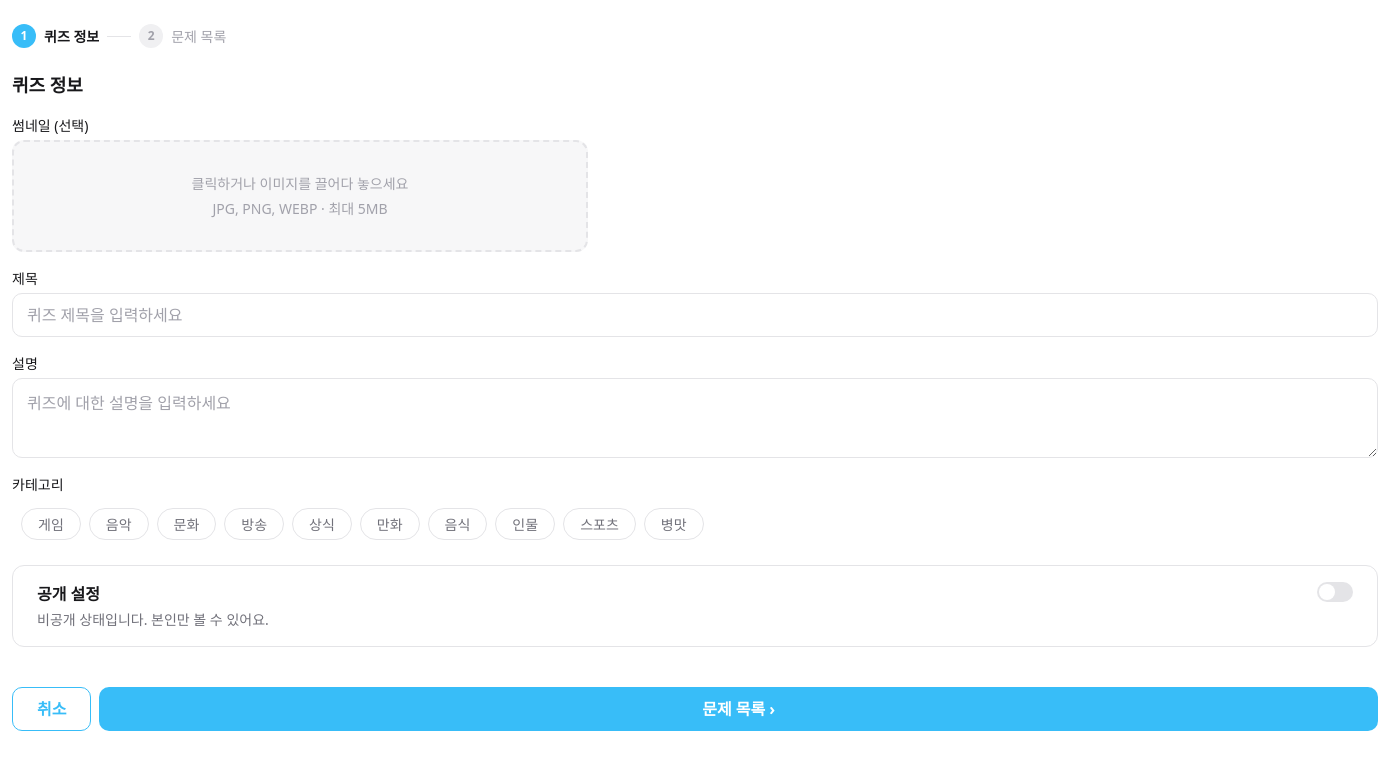
Test: QuizCreatePage › STEP 2 → STEP 1 복귀 › "‹ 퀴즈 정보" → step="info" 복귀, 폼 데이터 보존
The image size is (1390, 768).
Type "테스트 제목" into the field with placeholder "퀴즈 제목을 입력하세요". click: (695, 315)
box: [12,293,1378,337]
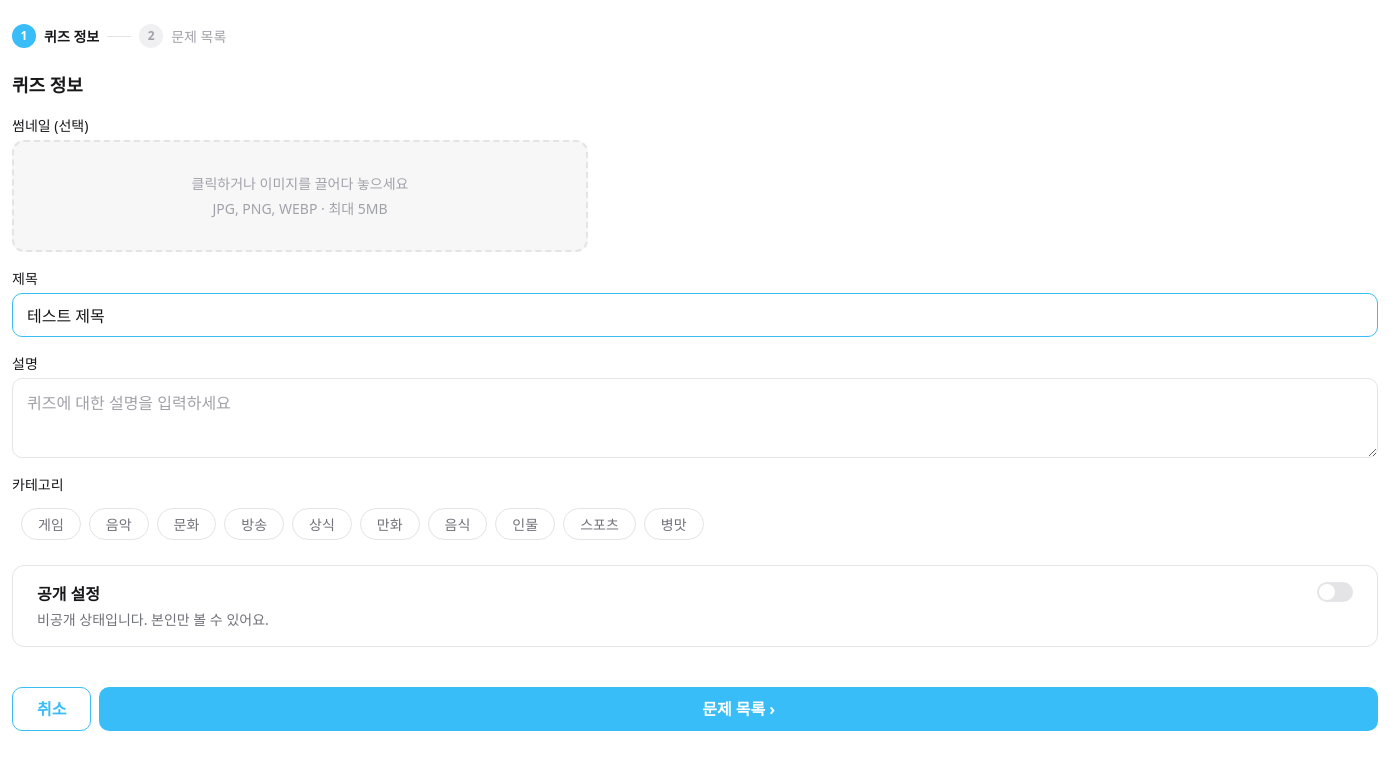
Type "설명" into the text box with placeholder "퀴즈에 대한 설명을 입력하세요". click: (695, 418)
box: [12,378,1378,458]
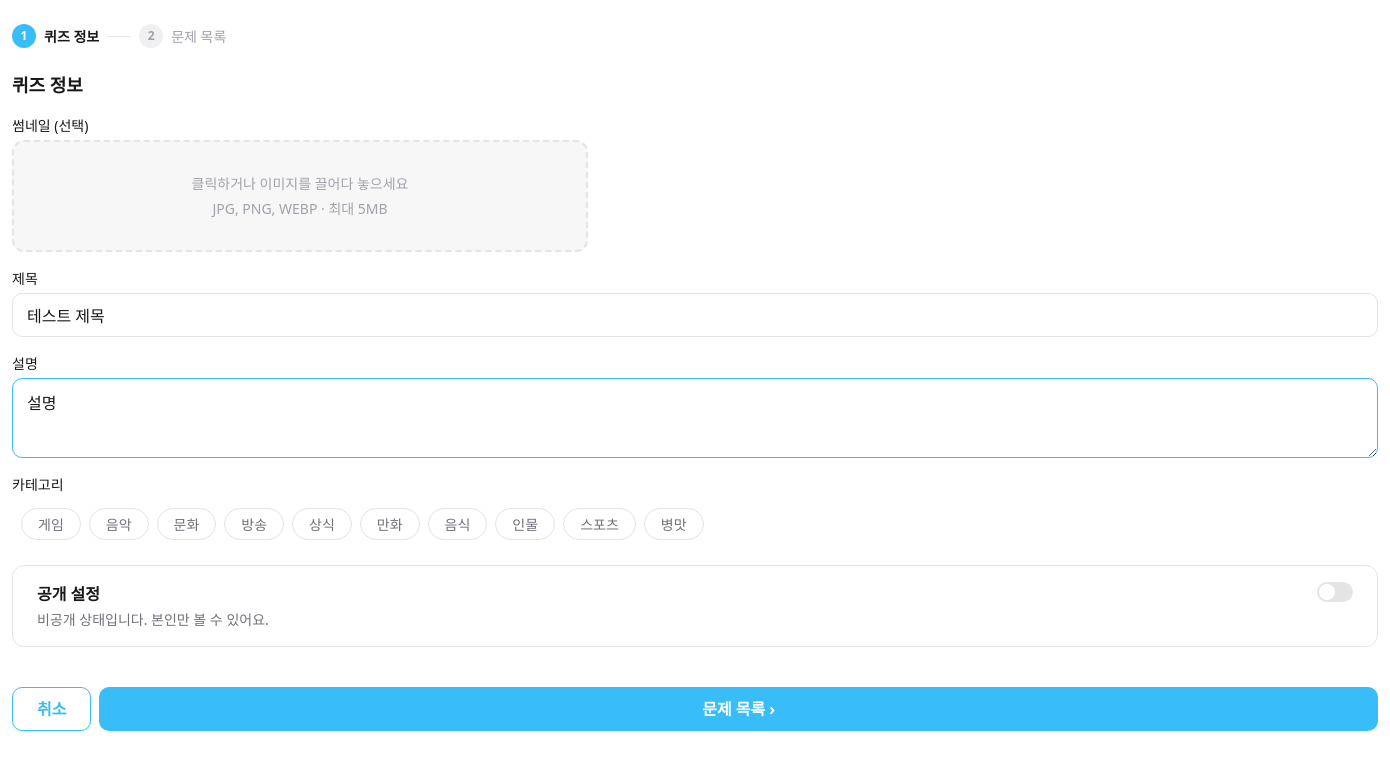
Click the button "게임". click: (51, 524)
box: [21,508,81,540]
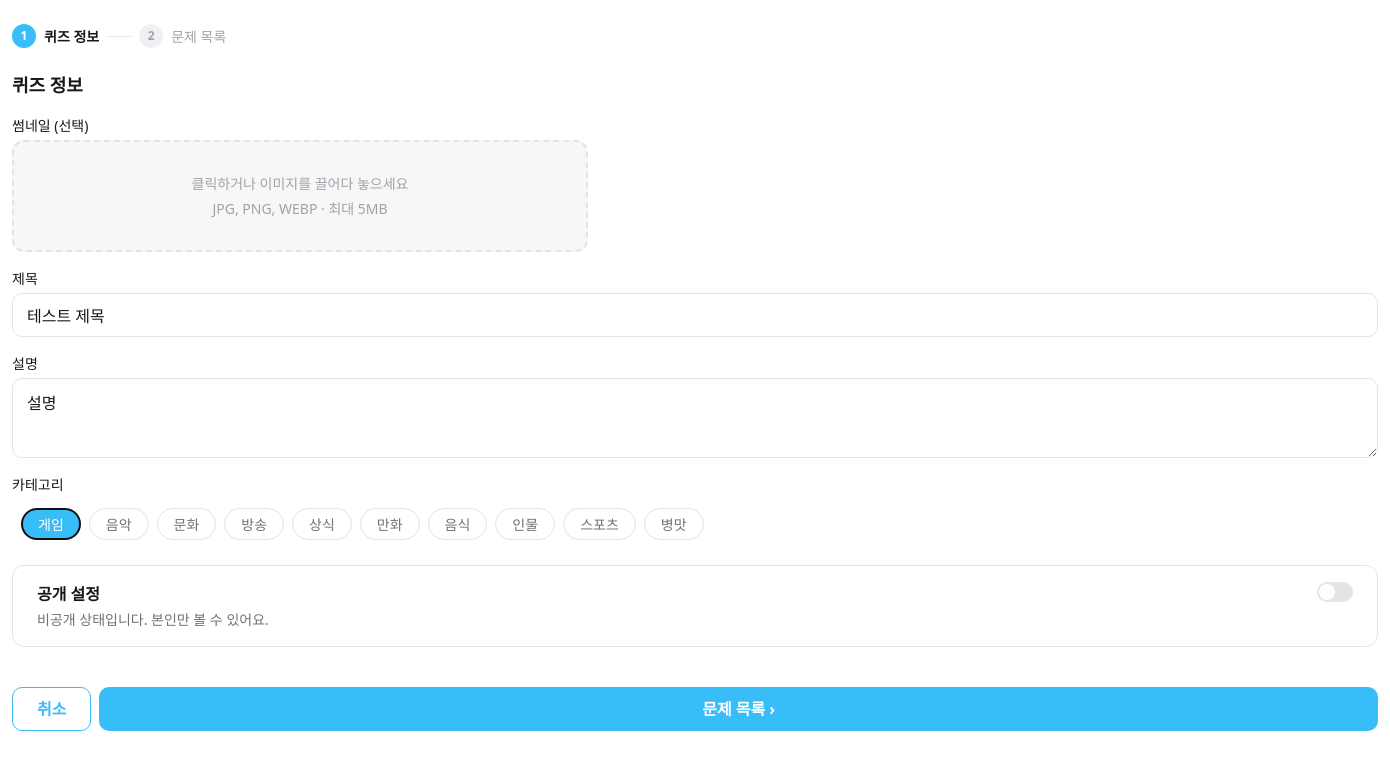
Click the button "문제 목록 ›". click: (739, 709)
box: [100,687,1378,731]
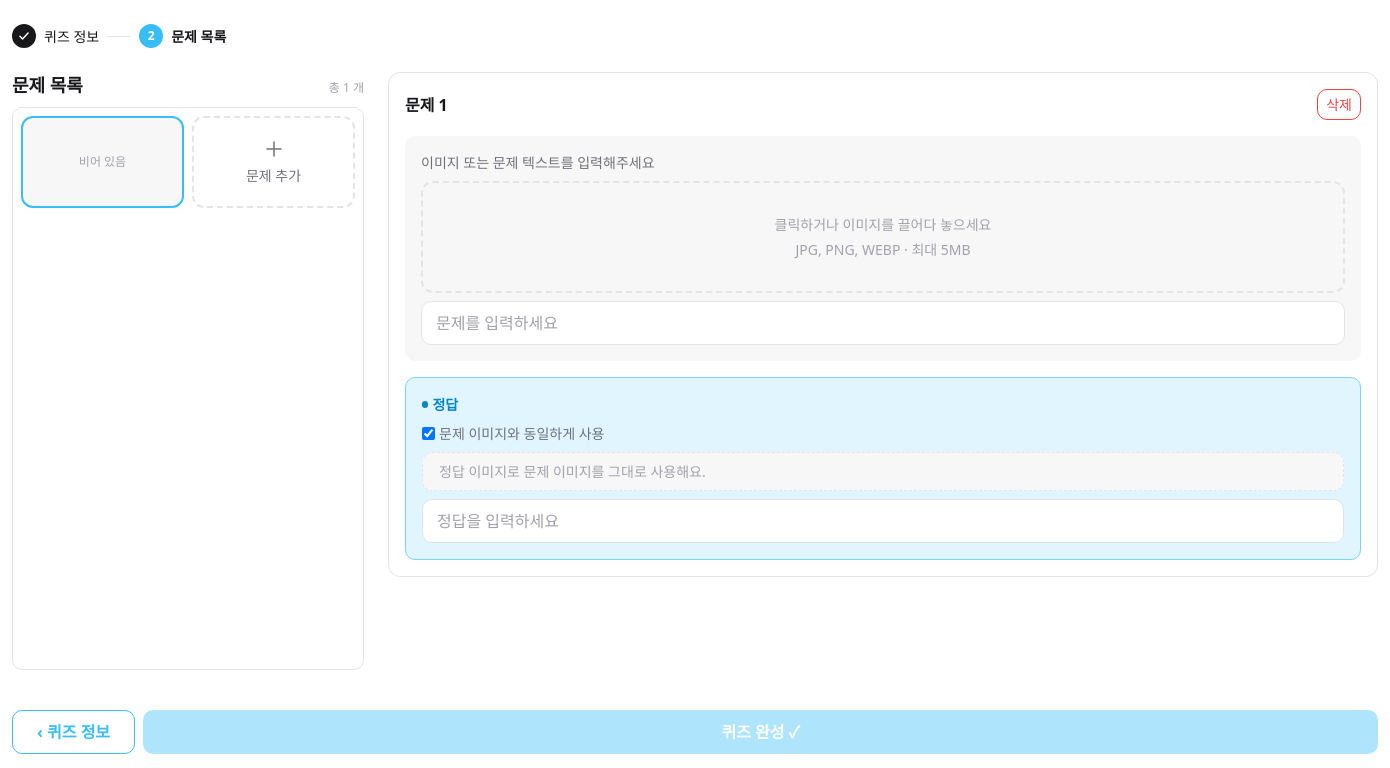
Click the button "‹ 퀴즈 정보". click: (74, 732)
box: [12,710,135,754]
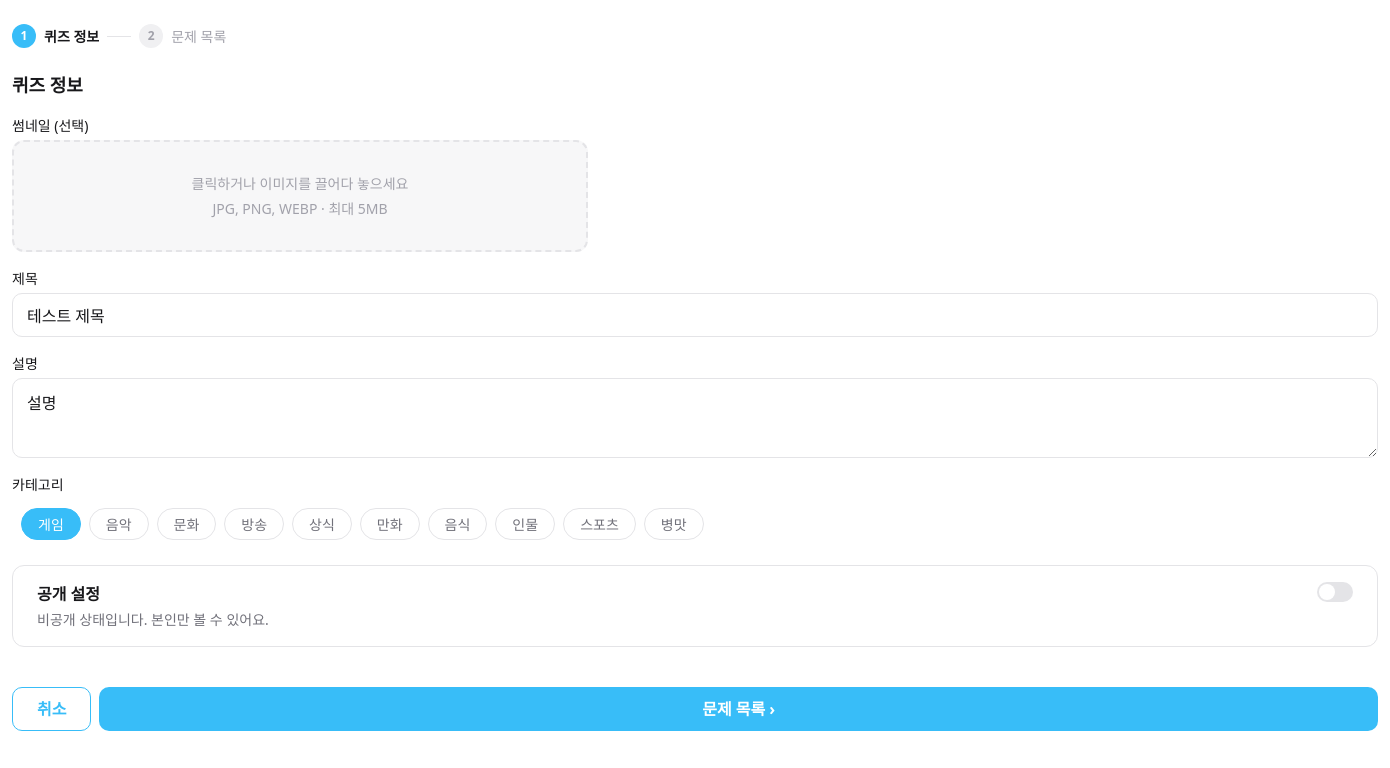
expect the field with placeholder "퀴즈 제목을 입력하세요" holds "테스트 제목": met, box [12,293,1378,337]
expect the button "문제 목록 ›" is shown: met, box [100,687,1378,731]
